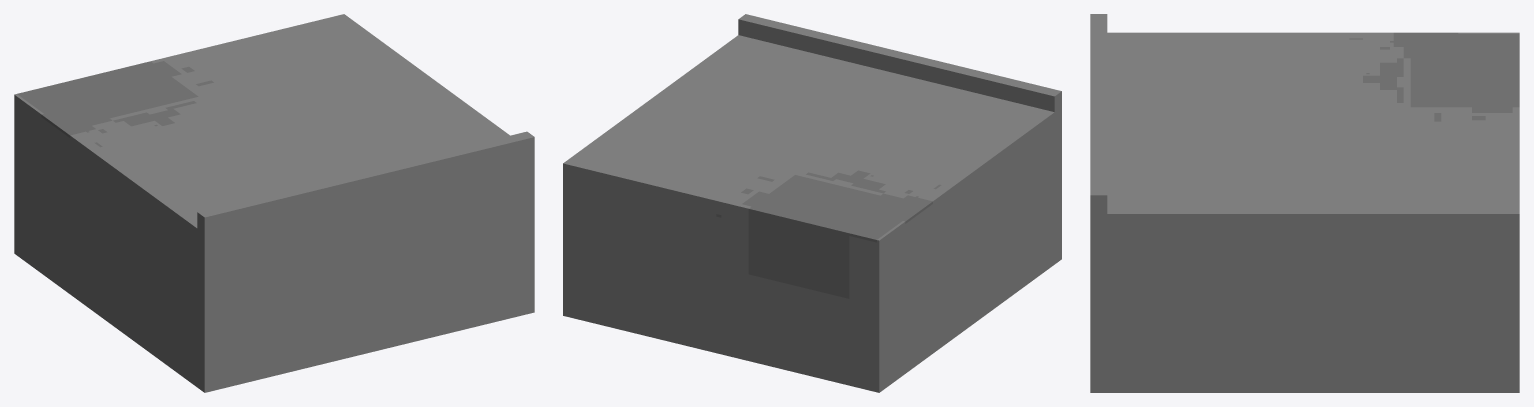
Rendered from 4x2 roof (1)-0.obj.
3 views of the same model, side by side, from view 1: azimuth 30°, elevation 25°; view 2: azimuth 150°, elevation 25°; view 3: azimuth 270°, elevation 25° (orthographic). The views are drawn at different scales.
Parts seen in each view (by area): view 1: 4x2 roof (1)-0; view 2: 4x2 roof (1)-0; view 3: 4x2 roof (1)-0.
Part boxes in pixels (left/top/right/bottom): 4x2 roof (1)-0: left=14, top=14, right=534, bottom=392; 4x2 roof (1)-0: left=563, top=14, right=1061, bottom=392; 4x2 roof (1)-0: left=1090, top=14, right=1519, bottom=392.
Bounding box in the file's own units: 126 × 64 × 126.
Materials: 1 (1 with a texture image).
